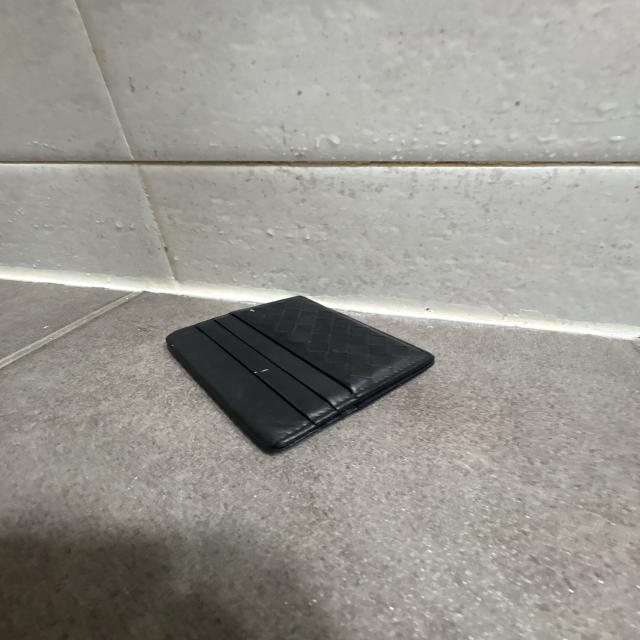wallet: (161, 293, 439, 455)
